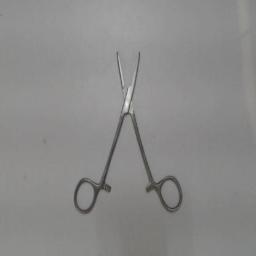Mayo Needle Holder: (72, 39, 188, 219)
